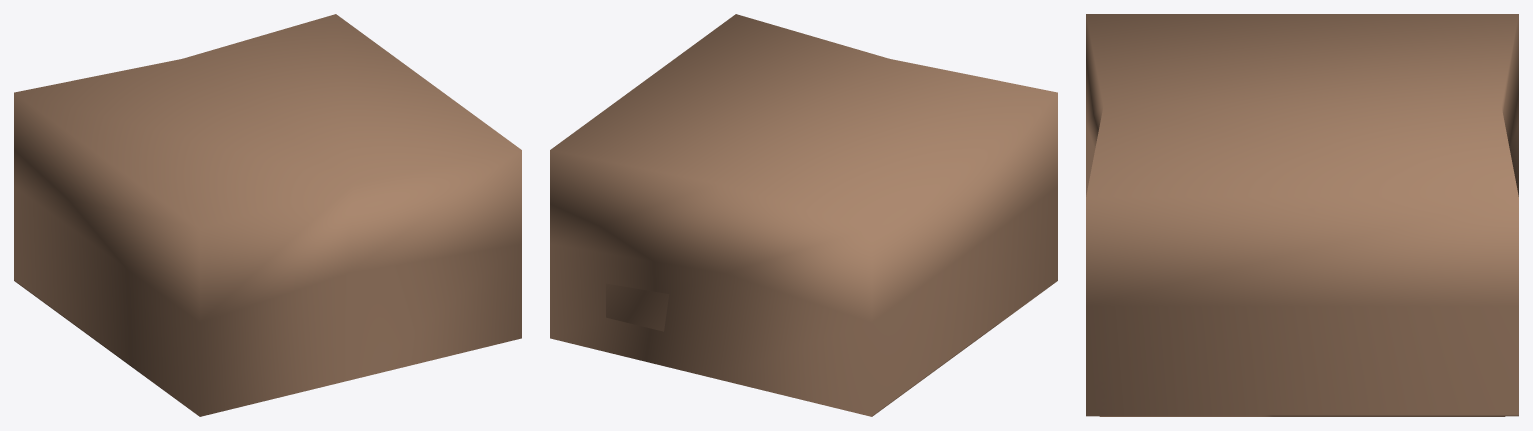
File: boardGameBox.fbx
The picture shows the model from 3 angles, left to right: view 1: azimuth 30°, elevation 25°; view 2: azimuth 150°, elevation 25°; view 3: azimuth 270°, elevation 25°; orthographic projection. The views are drawn at different scales.
Parts seen in each view (by area): view 1: box_top; view 2: box_top; view 3: box_top, box_bottom.
Part boxes in pixels (x1,y1,x2,y2): box_top: (14,14,521,416); box_top: (550,14,1057,416); box_top: (1086,14,1518,416); box_bottom: (1099,416,1505,416).
Bounding box in the file's own units: 48.61 × 28 × 48.61.
